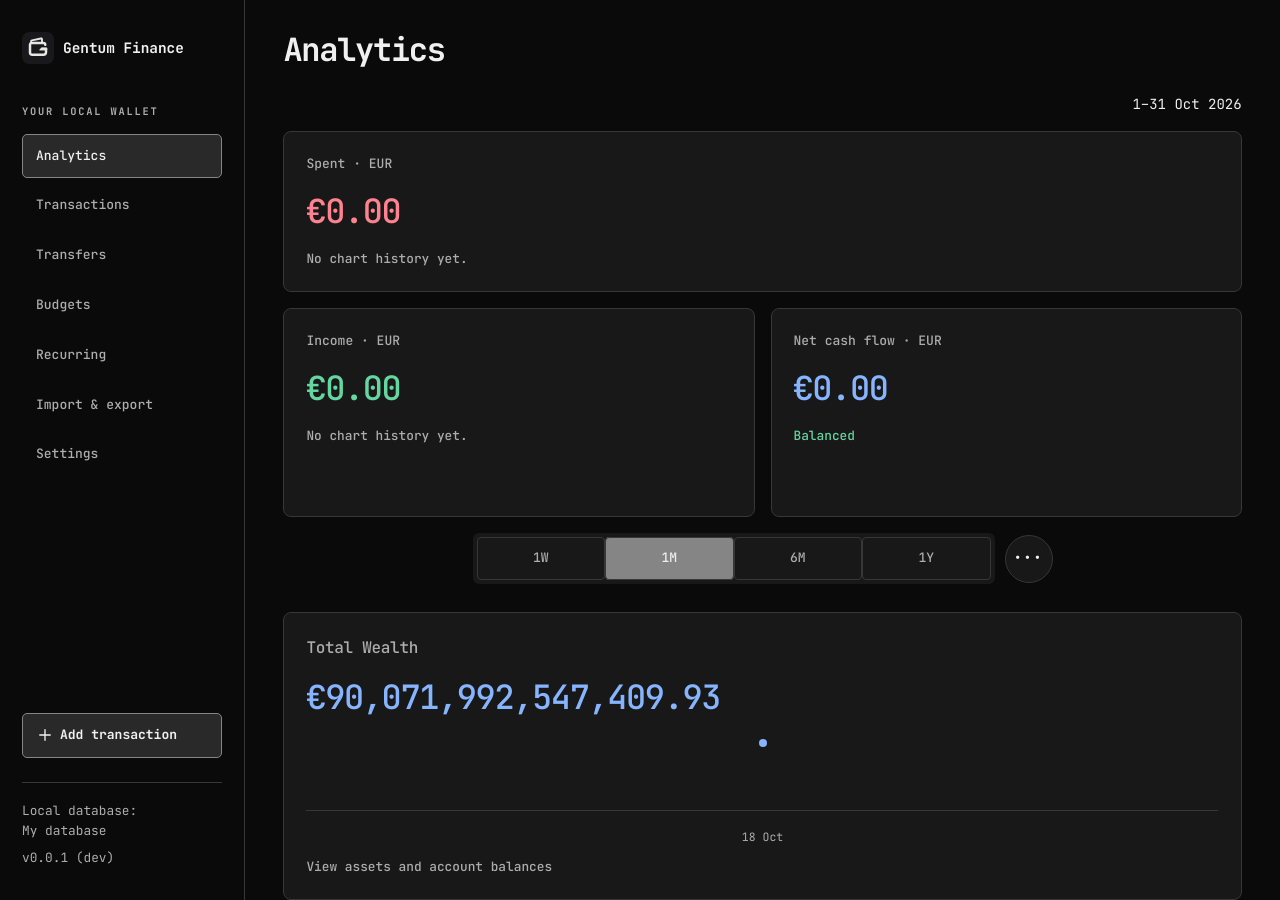
Scenario: shows authenticated balances and monthly budgets with exact cents
Expected: the heading "Total Wealth" is shown, [306,635,418,661]
Expected: the text "€90,071,992,547,409.93" is shown, [306,671,720,724]
Step 1. Click the button "Budgets" → point(122, 305), box [22,283,222,328]
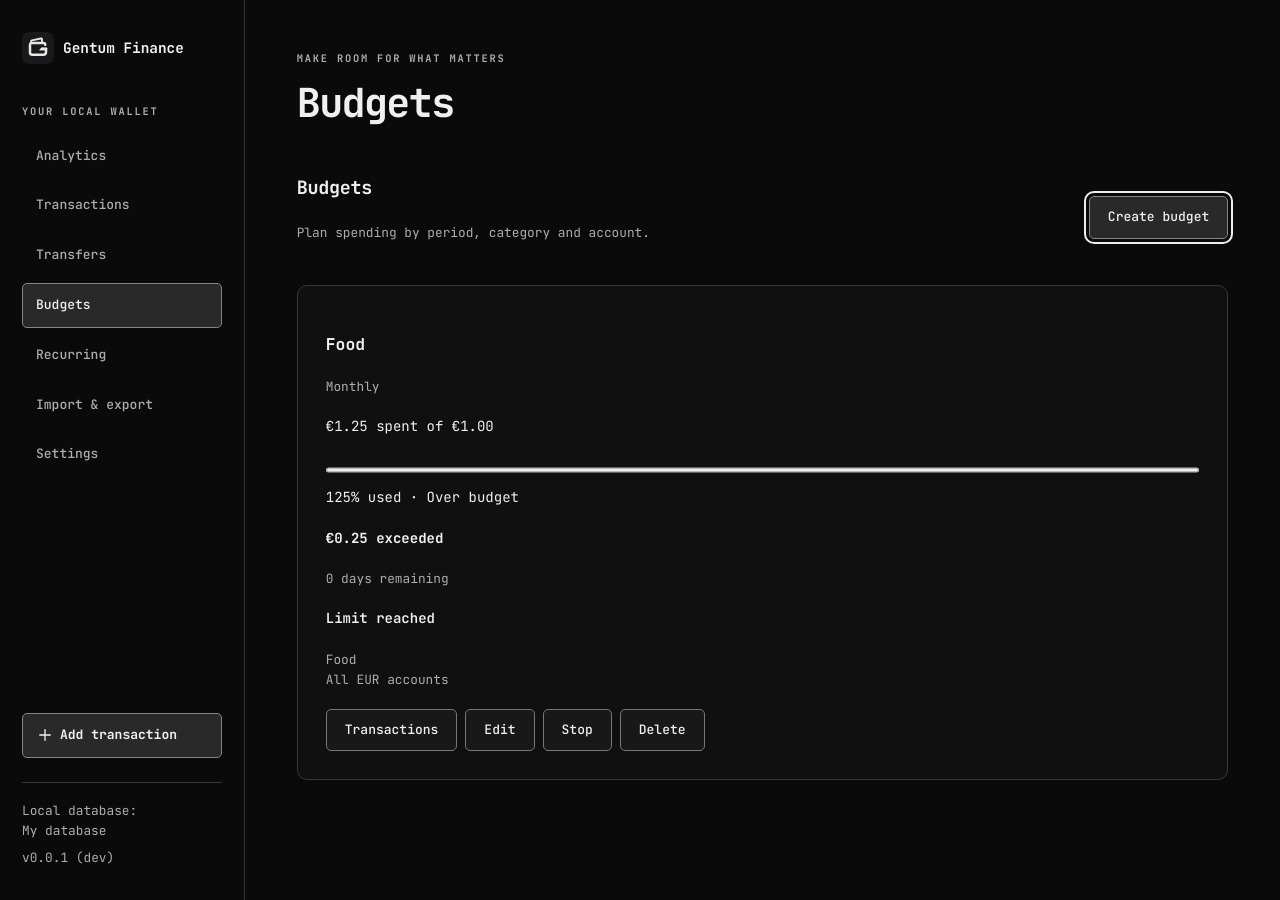
Expected: the text "125% used · Over budget" is shown, [326,488,519,506]
